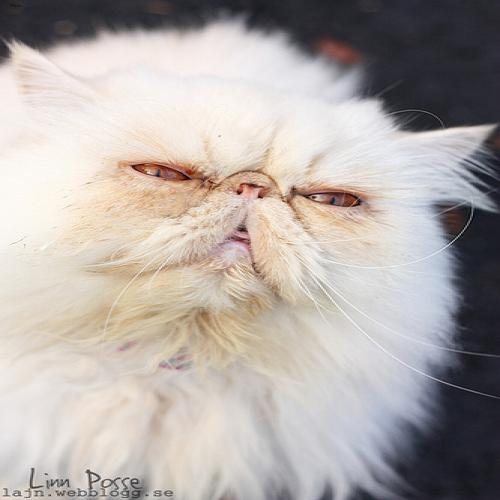persian: (1, 38, 500, 370)
